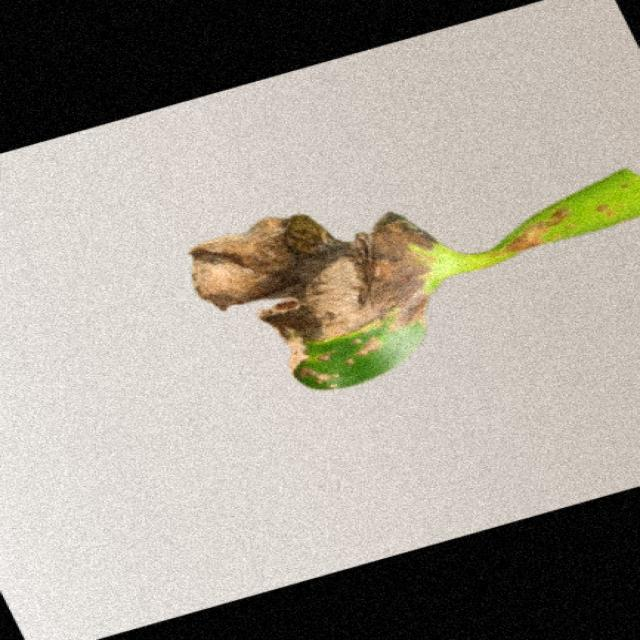daun berpenyakit karat: (190, 170, 638, 389)
